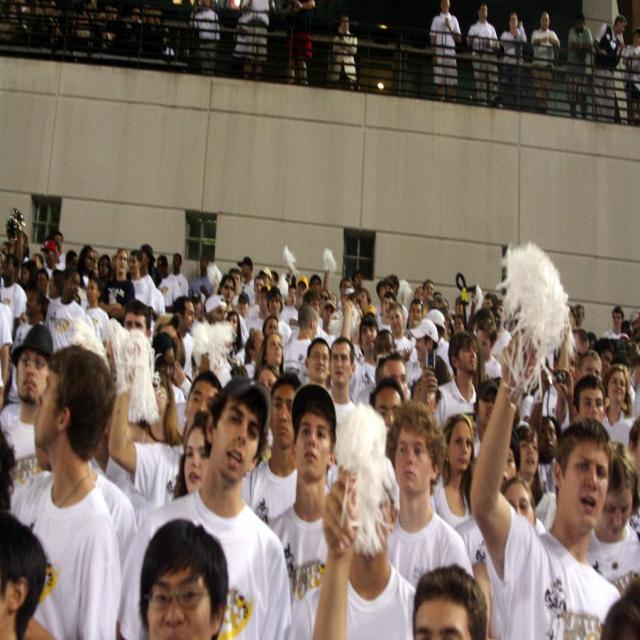Glasses: (144, 588, 211, 605)
